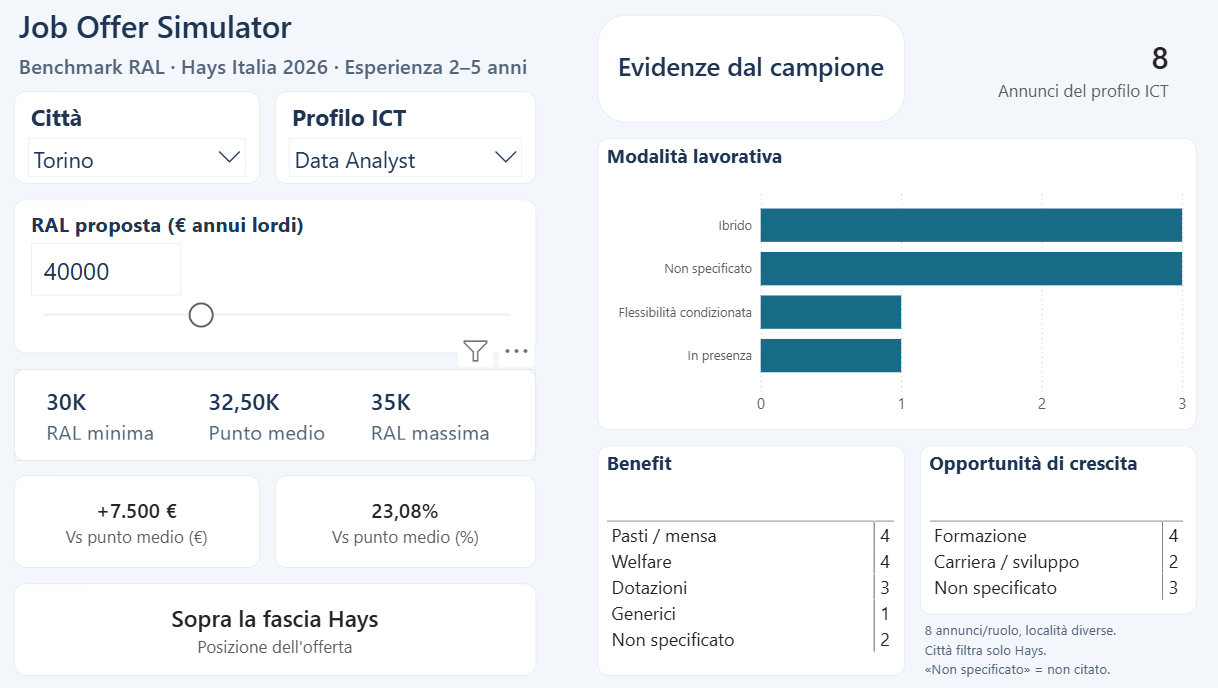

What the dashboard file says about the page in this screenshot:
{"tool":"powerbi","page":{"name":"Job Offer Simulator","canvas":[1280,720],"ordinal":1},"visuals":[{"type":"textbox","box":[16,0,304,64],"z":0},{"type":"slicer","fields":{"Values":["RAL_proposta.RAL_proposta"]},"box":[16,208,544,160],"z":1000},{"type":"cardVisual","fields":{"Data":["retribuzioni_hays_2026.RAL_min_simulatore","retribuzioni_hays_2026.RAL_midpoint_simulatore","retribuzioni_hays_2026.RAL_max_simulatore"]},"box":[16,384,544,96],"z":2000},{"type":"slicer","fields":{"Values":["mappatura_ruoli_excelsior.Profilo"]},"box":[288,96,272,96],"z":3000},{"type":"slicer","fields":{"Values":["retribuzioni_hays_2026.Citta"]},"box":[16,96,256,96],"z":4000},{"type":"clusteredBarChart","title":"Modalità lavorativa ","fields":{"Category":["annunci_puliti.Modalita_cluster"],"Y":["Count(annunci_puliti.ID_annuncio)"]},"box":[624,144,624,304],"z":5000},{"type":"pivotTable","title":"Benefit","fields":{"Values":["Sum(annunci_puliti.Benefit_pasti)","Sum(annunci_puliti.Benefit_welfare_salute)","Sum(annunci_puliti.Benefit_dotazioni_convenzioni)","Sum(annunci_puliti.Benefit_generici)","annunci_puliti.Benefit_non_specificato"]},"box":[624,464,320,240],"z":6000},{"type":"pivotTable","title":"Opportunità di crescita","fields":{"Values":["Sum(annunci_puliti.Crescita_formazione)","Sum(annunci_puliti.Crescita_sviluppo)","annunci_puliti.Crescita_non_specificata"]},"box":[960,464,288,176],"z":7000},{"type":"cardVisual","fields":{"Data":["retribuzioni_hays_2026.Scostamento_euro_visual"]},"box":[16,496,256,96],"z":8000},{"type":"cardVisual","fields":{"Data":["retribuzioni_hays_2026.Scostamento_midpoint_pct"]},"box":[288,496,272,96],"z":9000},{"type":"cardVisual","fields":{"Data":["retribuzioni_hays_2026.Posizione_offerta"]},"box":[16,608,544,96],"z":10000},{"type":"cardVisual","fields":{"Data":["annunci_puliti.N_annunci_distinti"]},"box":[960,16,288,112],"z":11000},{"type":"textbox","box":[624,16,320,112],"z":12000},{"type":"textbox","box":[960,640,304,80],"z":13000},{"type":"textbox","box":[16,48,672,48],"z":14000}]}

Visuals, with their boxes in screenshot pixels (x1, y1, x2, y2), scaled from the page's 1280x720 canvas onto the 1218x688 screenshot:
textbox: (x1=15, y1=0, x2=304, y2=61)
slicer - RAL_proposta.RAL_proposta: (x1=15, y1=199, x2=533, y2=352)
cardVisual - retribuzioni_hays_2026.RAL_min_simulatore x retribuzioni_hays_2026.RAL_midpoint_simulatore: (x1=15, y1=367, x2=533, y2=459)
slicer - mappatura_ruoli_excelsior.Profilo: (x1=274, y1=92, x2=533, y2=183)
slicer - retribuzioni_hays_2026.Citta: (x1=15, y1=92, x2=259, y2=183)
"Modalità lavorativa " clusteredBarChart: (x1=594, y1=138, x2=1188, y2=428)
"Benefit" pivotTable: (x1=594, y1=443, x2=898, y2=673)
"Opportunità di crescita" pivotTable: (x1=914, y1=443, x2=1188, y2=612)
cardVisual - retribuzioni_hays_2026.Scostamento_euro_visual: (x1=15, y1=474, x2=259, y2=566)
cardVisual - retribuzioni_hays_2026.Scostamento_midpoint_pct: (x1=274, y1=474, x2=533, y2=566)
cardVisual - retribuzioni_hays_2026.Posizione_offerta: (x1=15, y1=581, x2=533, y2=673)
cardVisual - annunci_puliti.N_annunci_distinti: (x1=914, y1=15, x2=1188, y2=122)
textbox: (x1=594, y1=15, x2=898, y2=122)
textbox: (x1=914, y1=612, x2=1203, y2=687)
textbox: (x1=15, y1=46, x2=655, y2=92)
